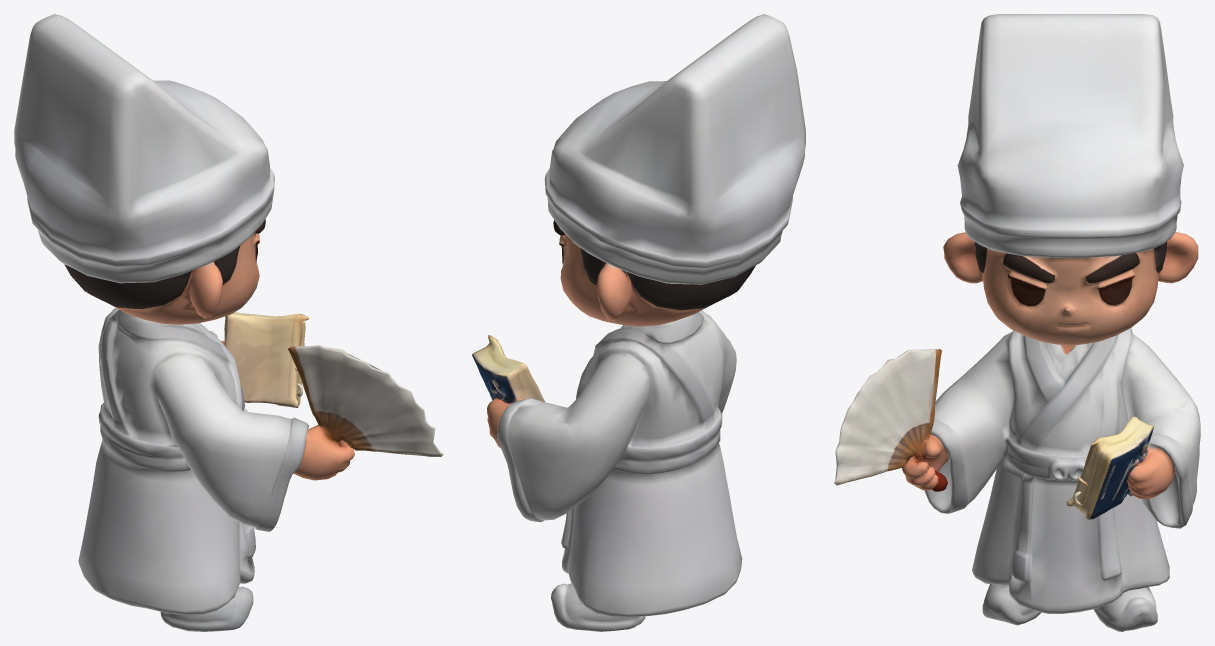
The model's file is baimin.glb.
The picture shows the model from 3 angles, left to right: view 1: azimuth 30°, elevation 25°; view 2: azimuth 150°, elevation 25°; view 3: azimuth 270°, elevation 25°; orthographic projection. The views are drawn at different scales.
Parts seen in each view (by area): view 1: tripo_node_776735c3-d1c0-4db9-854b-793995a982cc; view 2: tripo_node_776735c3-d1c0-4db9-854b-793995a982cc; view 3: tripo_node_776735c3-d1c0-4db9-854b-793995a982cc.
Part boxes in pixels (left/top/right/bottom): tripo_node_776735c3-d1c0-4db9-854b-793995a982cc: left=14, top=14, right=443, bottom=631; tripo_node_776735c3-d1c0-4db9-854b-793995a982cc: left=472, top=14, right=805, bottom=631; tripo_node_776735c3-d1c0-4db9-854b-793995a982cc: left=834, top=14, right=1200, bottom=631.
Size of the model in its own units: 0.5089 by 1 by 0.5988.
Materials: 1 (1 with a texture image).
